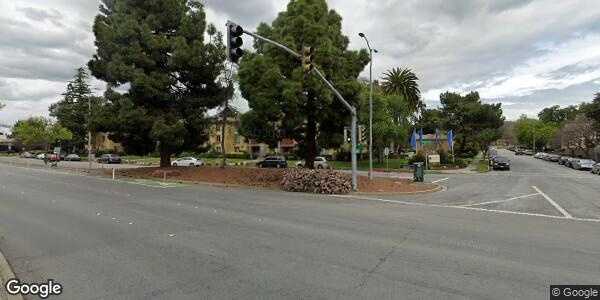Steel_Pole: (357, 31, 379, 183)
